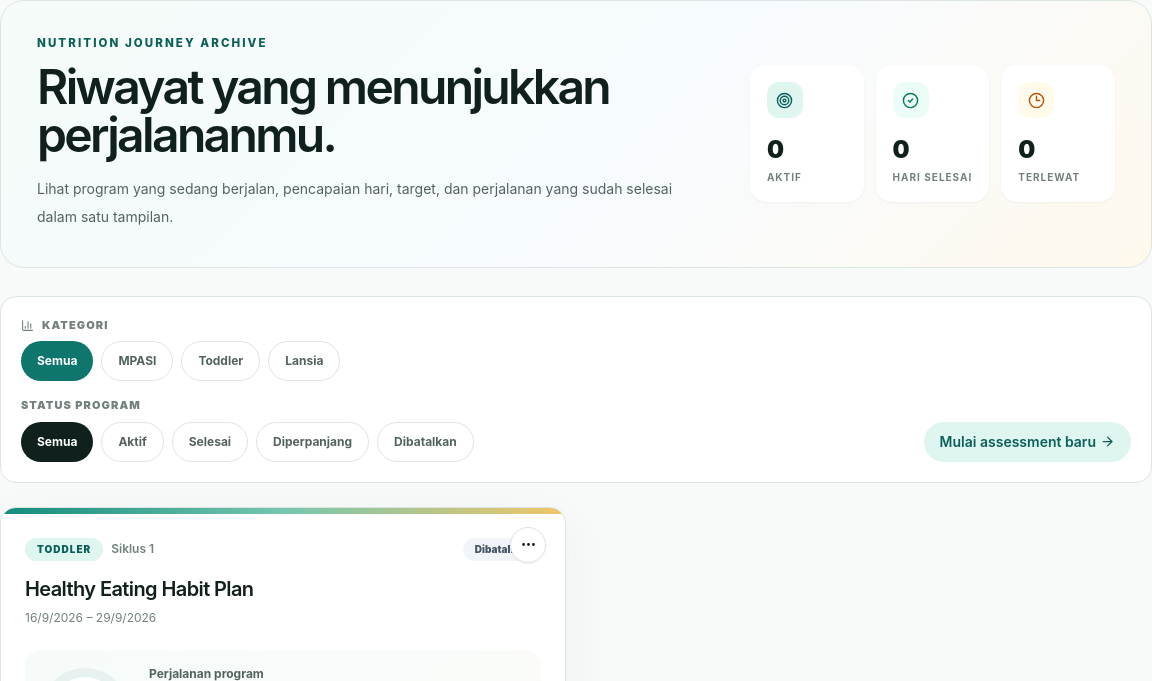
Test: nutrition guided program UX/state › deletes a program from history only after it is already cancelled
expect the heading "Healthy Eating Habit Plan" is shown: met, box [25, 577, 254, 602]
Click the button named "More actions for Healthy Eating Habit Plan".
click(528, 545)  # box [510, 527, 546, 563]
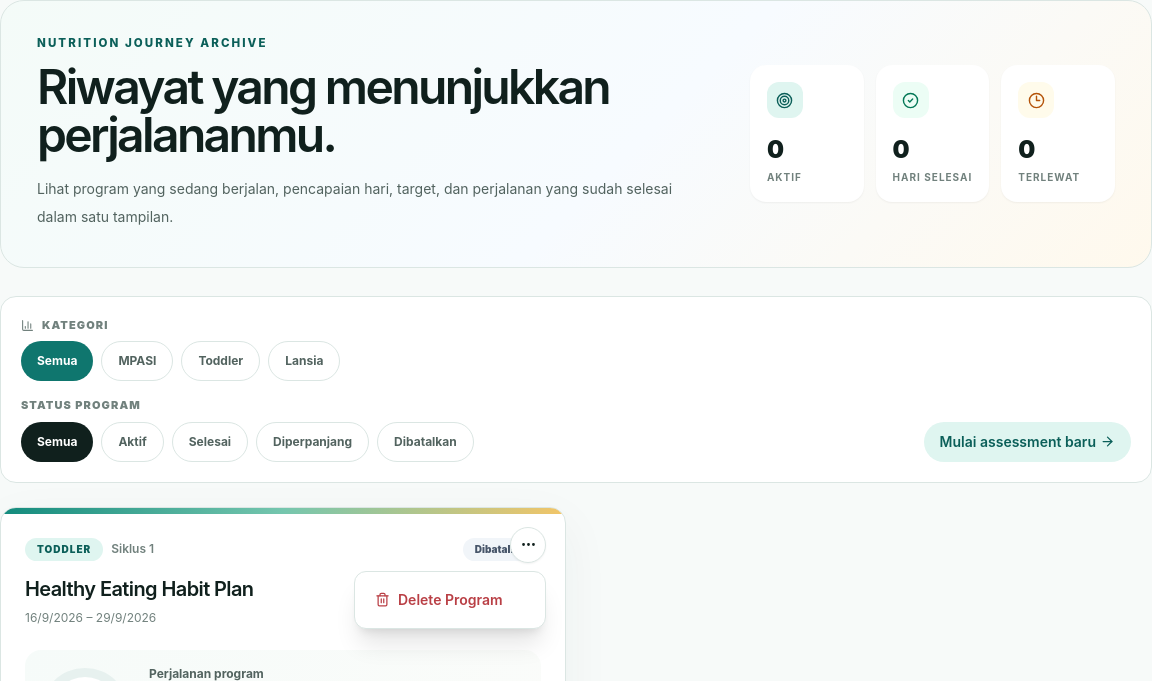
Click the menu item "Delete Program".
click(450, 600)  # box [363, 580, 537, 620]
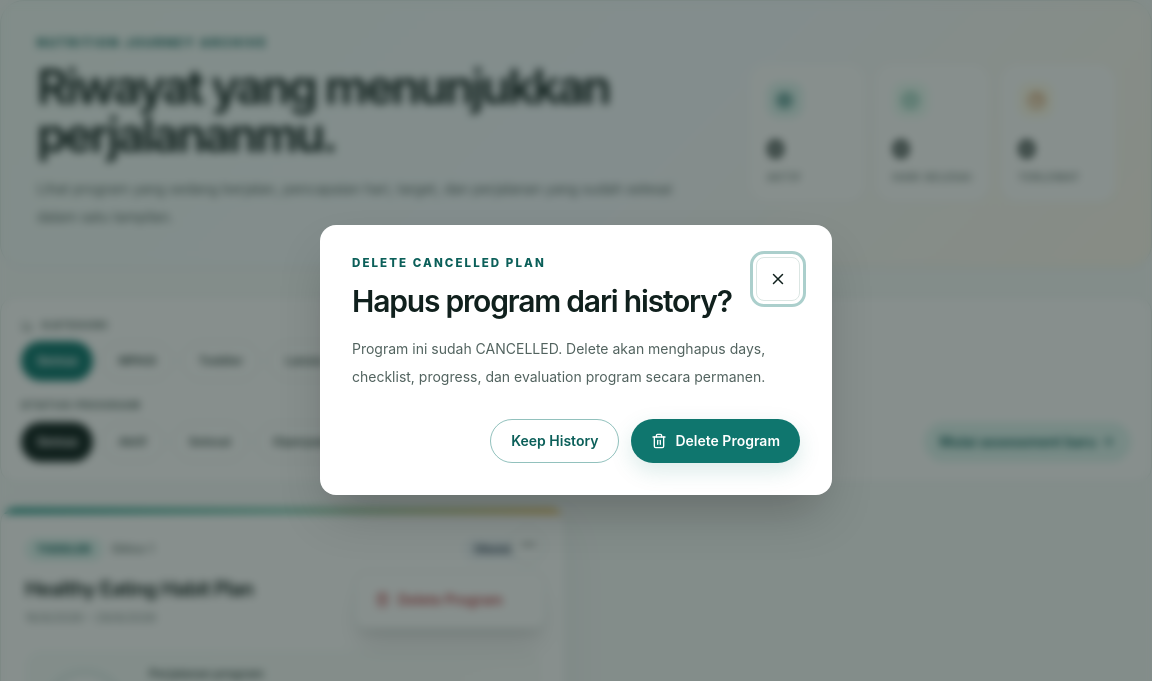
Click the button "Delete Program".
click(716, 441)  # box [631, 419, 800, 463]
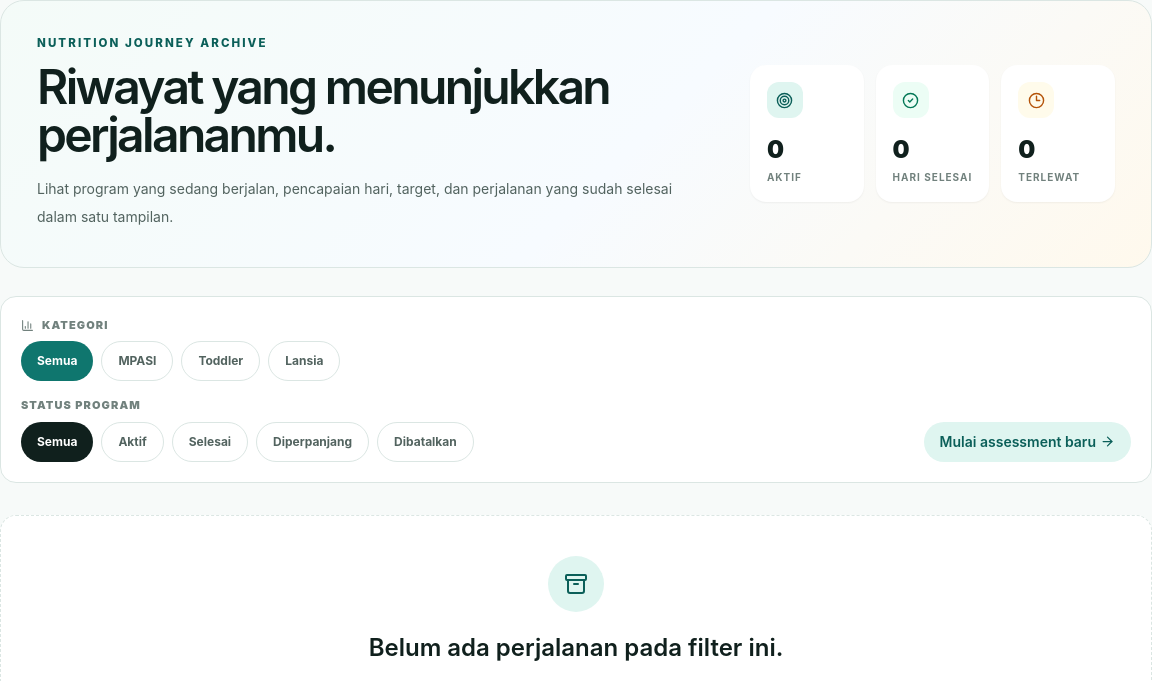
expect the link "Healthy Eating Habit Plan" is gone: met
